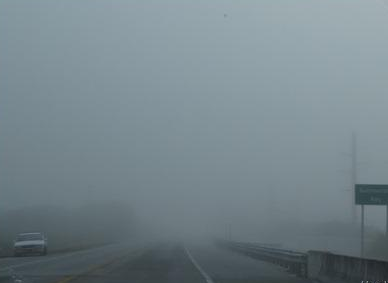car: (12, 232, 50, 257)
